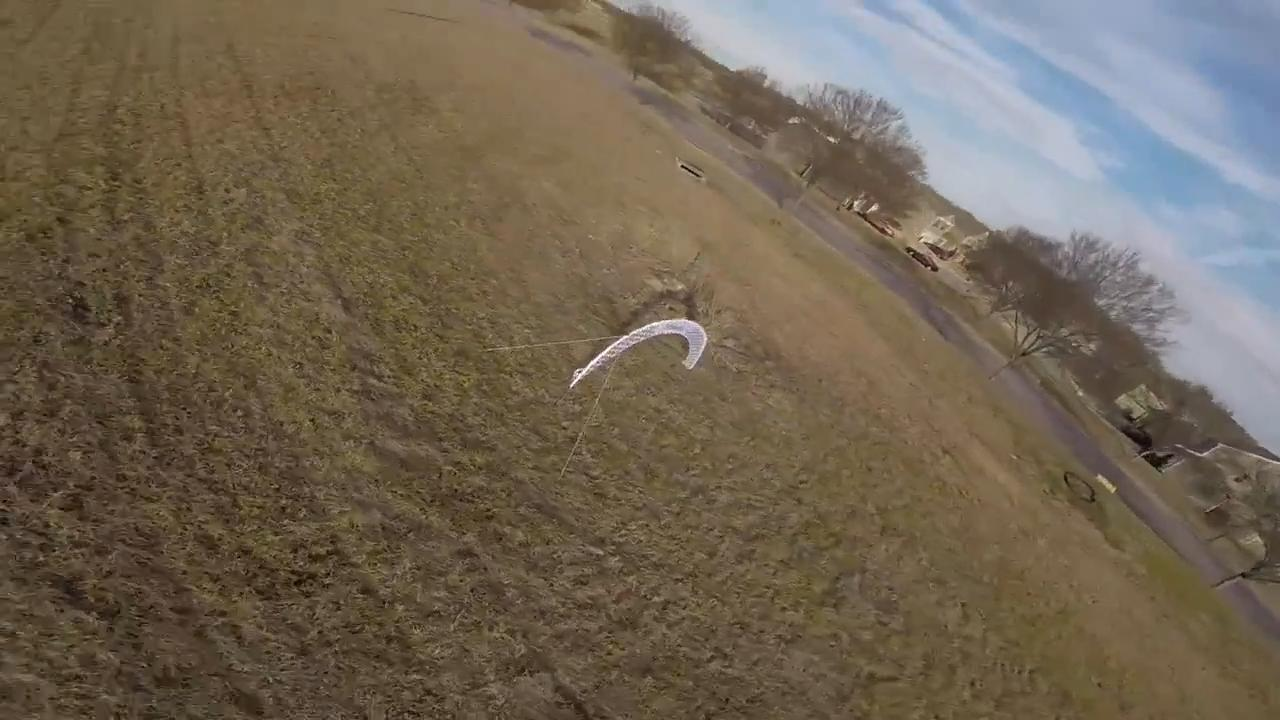gate: (565, 317, 710, 392)
